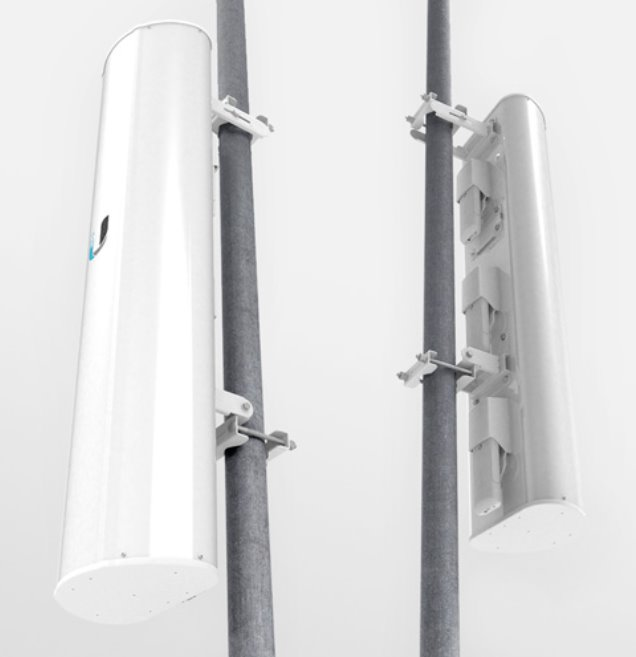sa: (65, 24, 294, 632), (389, 68, 584, 578)
